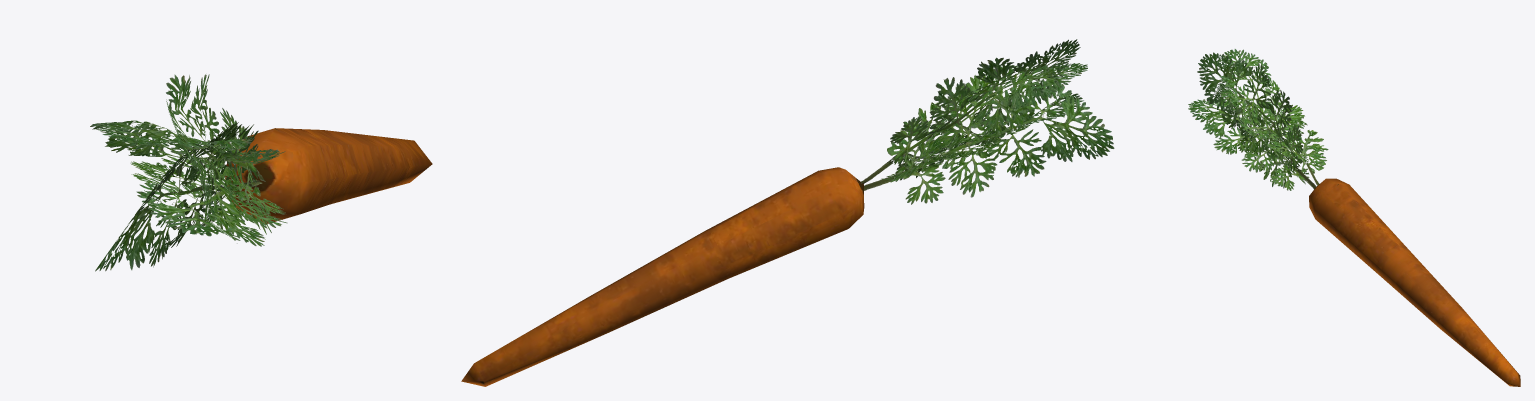
File: carrot-opt.glb
The picture shows the model from 3 angles, left to right: view 1: azimuth 30°, elevation 25°; view 2: azimuth 150°, elevation 25°; view 3: azimuth 270°, elevation 25°; orthographic projection. The views are drawn at different scales.
Visible parts, largest first — view 1: Object_2; view 2: Object_2; view 3: Object_2.
Part boxes in pixels (<box>): Object_2: <box>90,74,432,271</box>; Object_2: <box>461,39,1114,386</box>; Object_2: <box>1188,49,1520,386</box>.
Bounding box in the file's own units: 564 × 383 × 542.
Materials: 1 (1 with a texture image).
